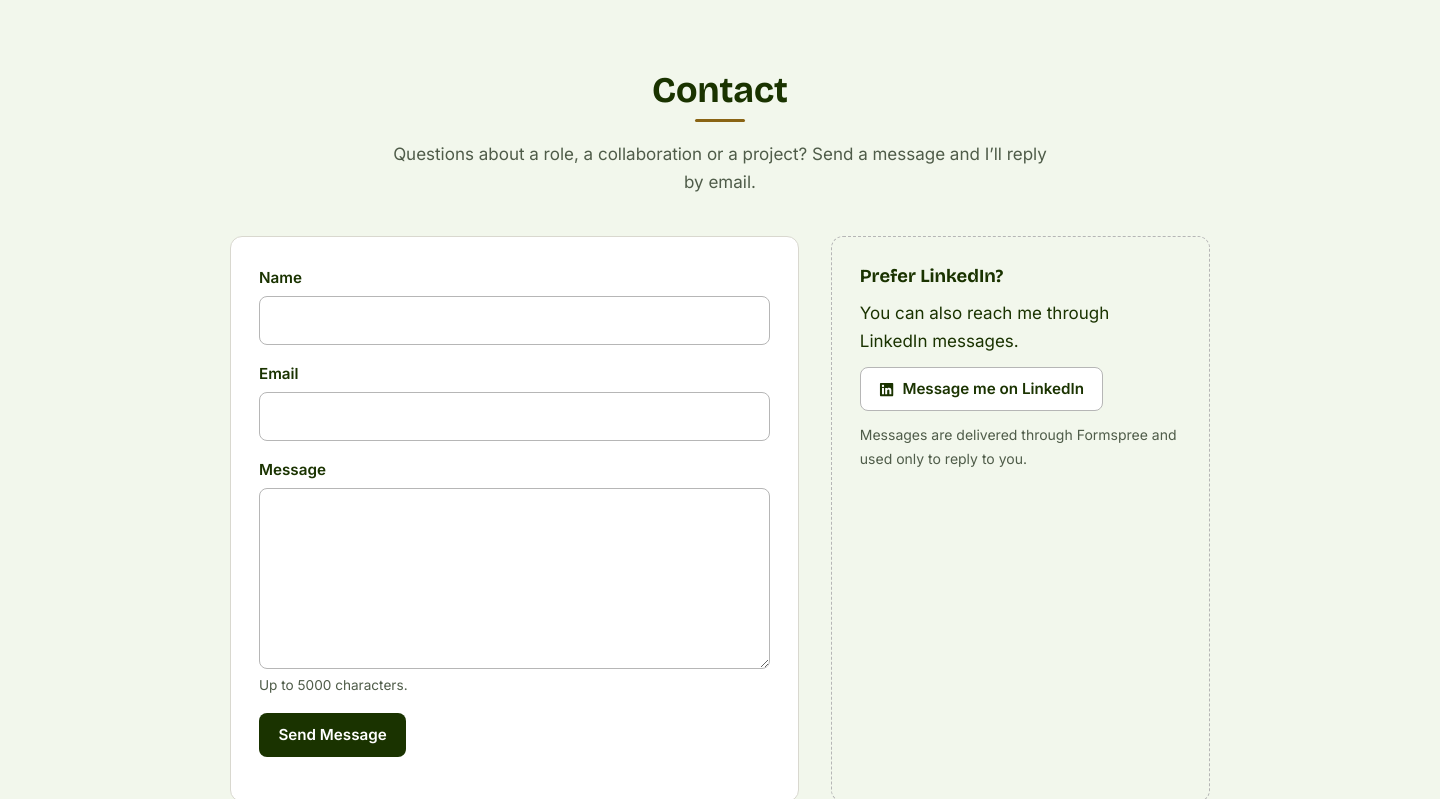
Test: Contact form › shows an error when the service fails
Type "Ada" into the field labelled "Name" at (514,321), box x1=259 y1=296 x2=770 y2=345
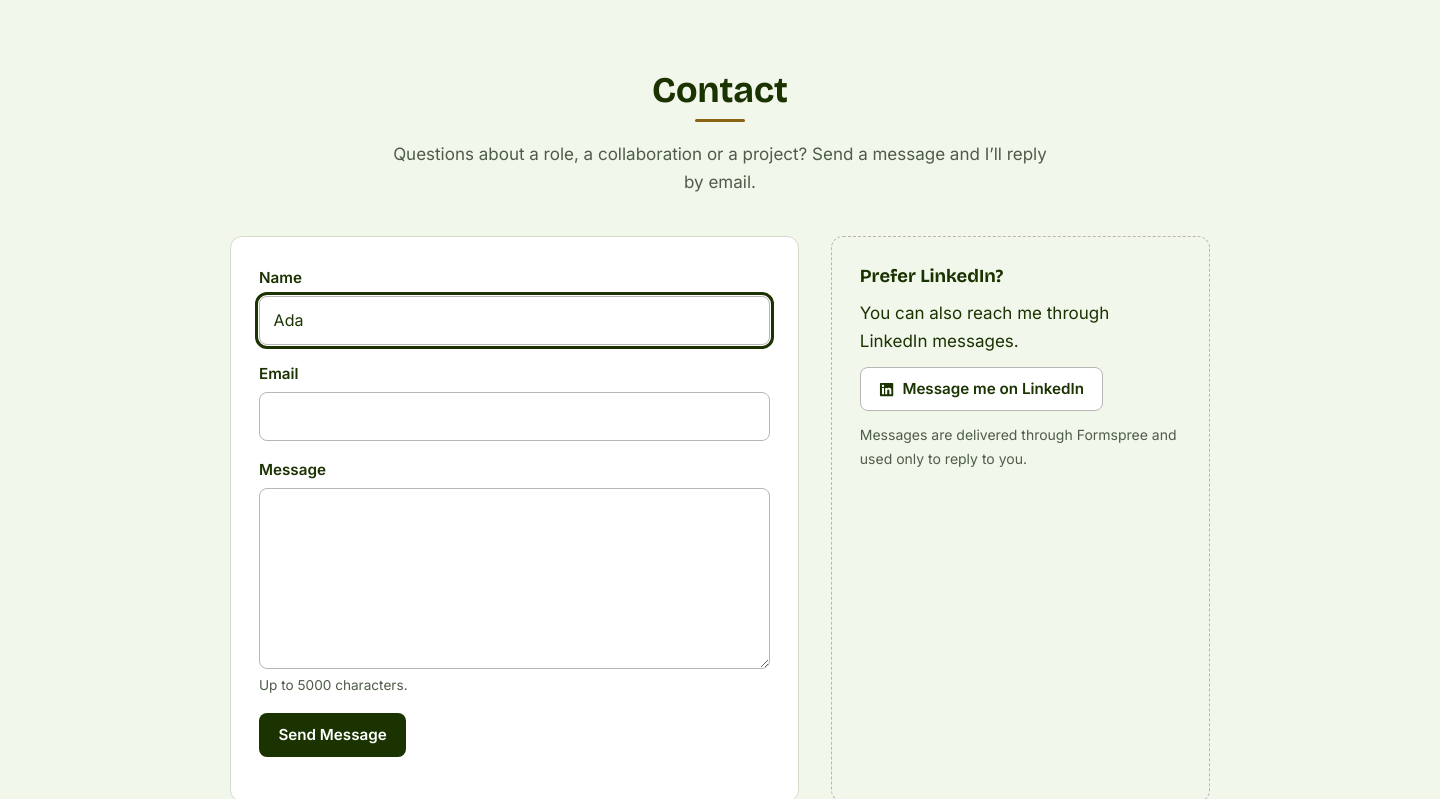
Type "ada@example.com" into the field labelled "Email" at (514,416), box x1=259 y1=392 x2=770 y2=441
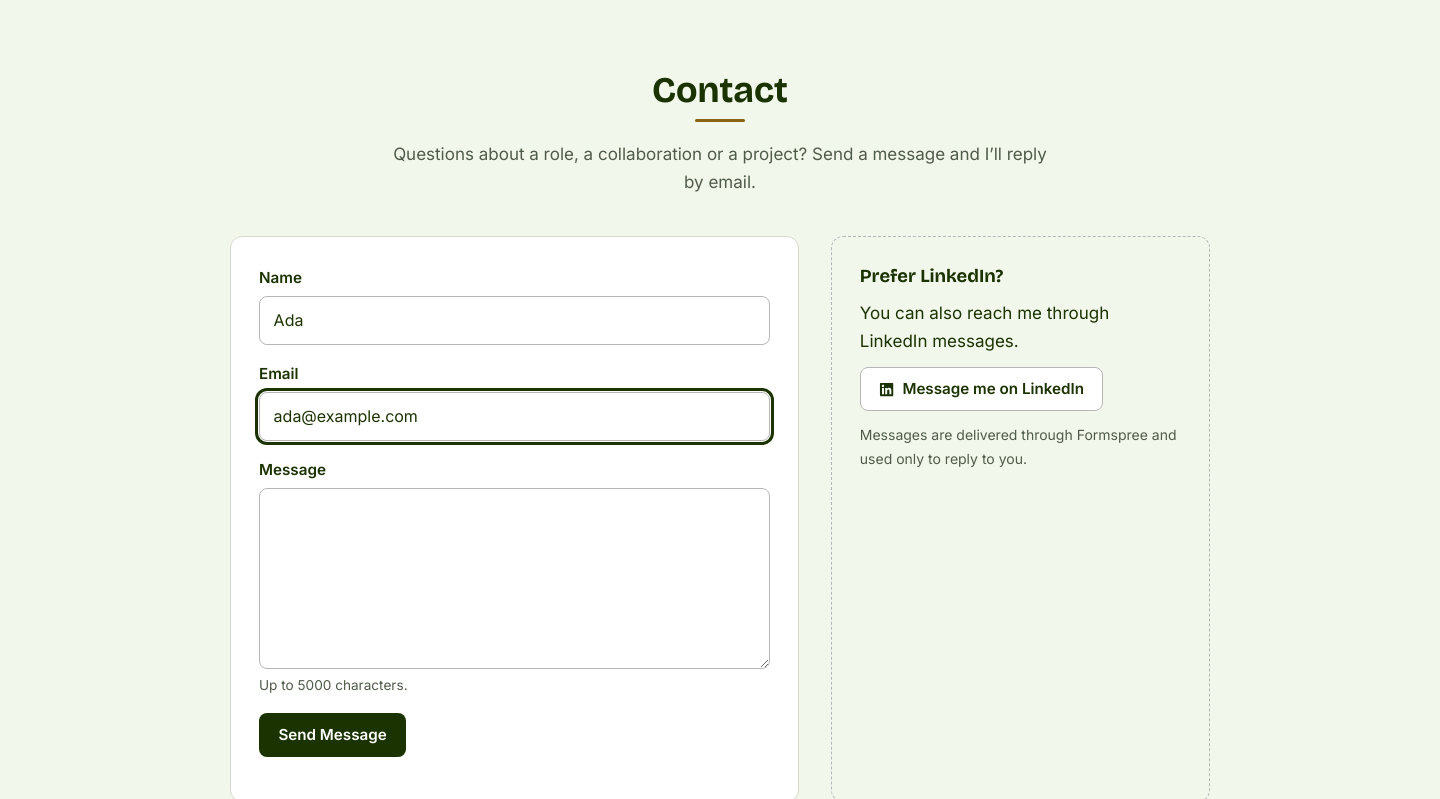
Type "Hello there" into the text box labelled "Message" at (514,578), box x1=259 y1=488 x2=770 y2=669
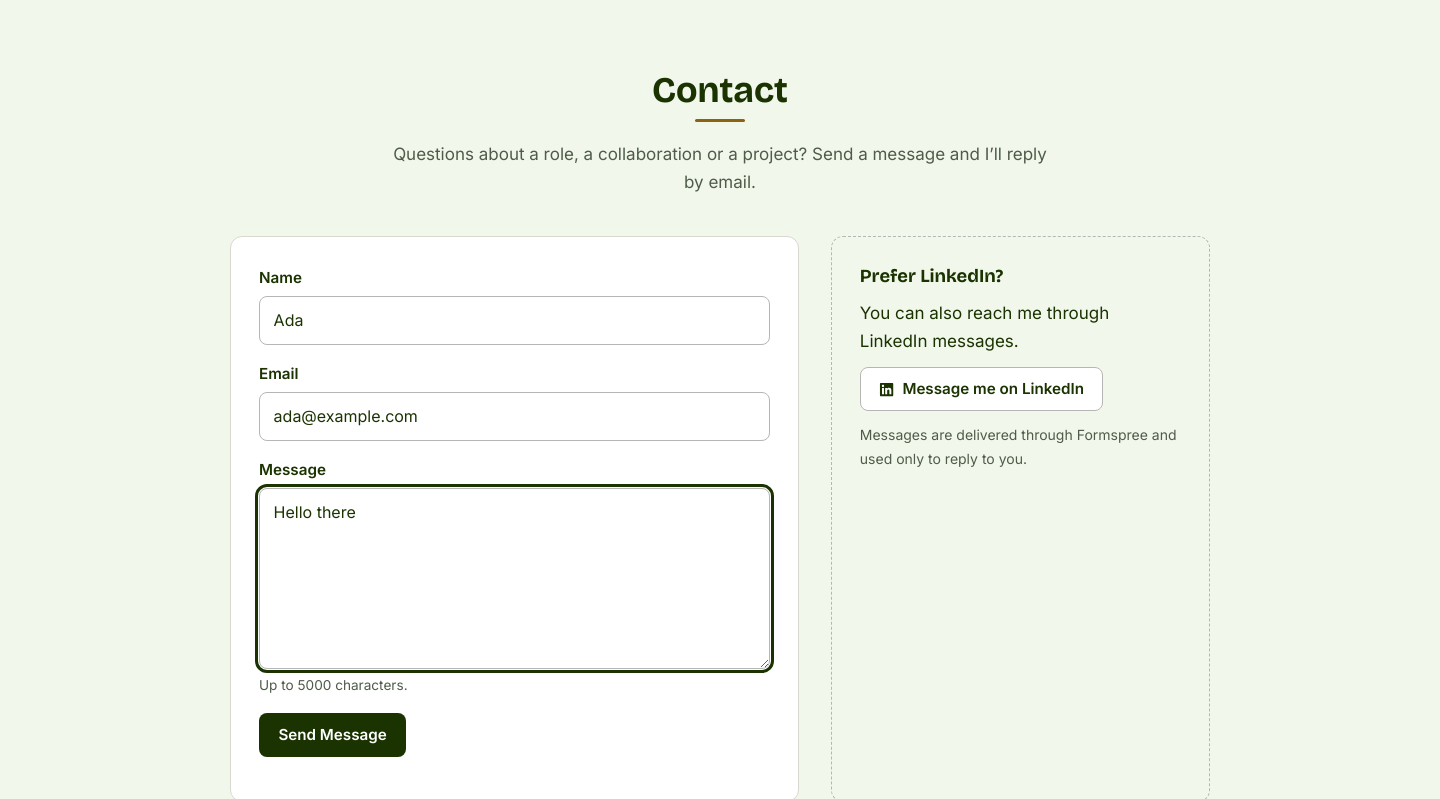
Click the button "Send Message" at (333,735), box x1=259 y1=713 x2=406 y2=757
(page scrolled)
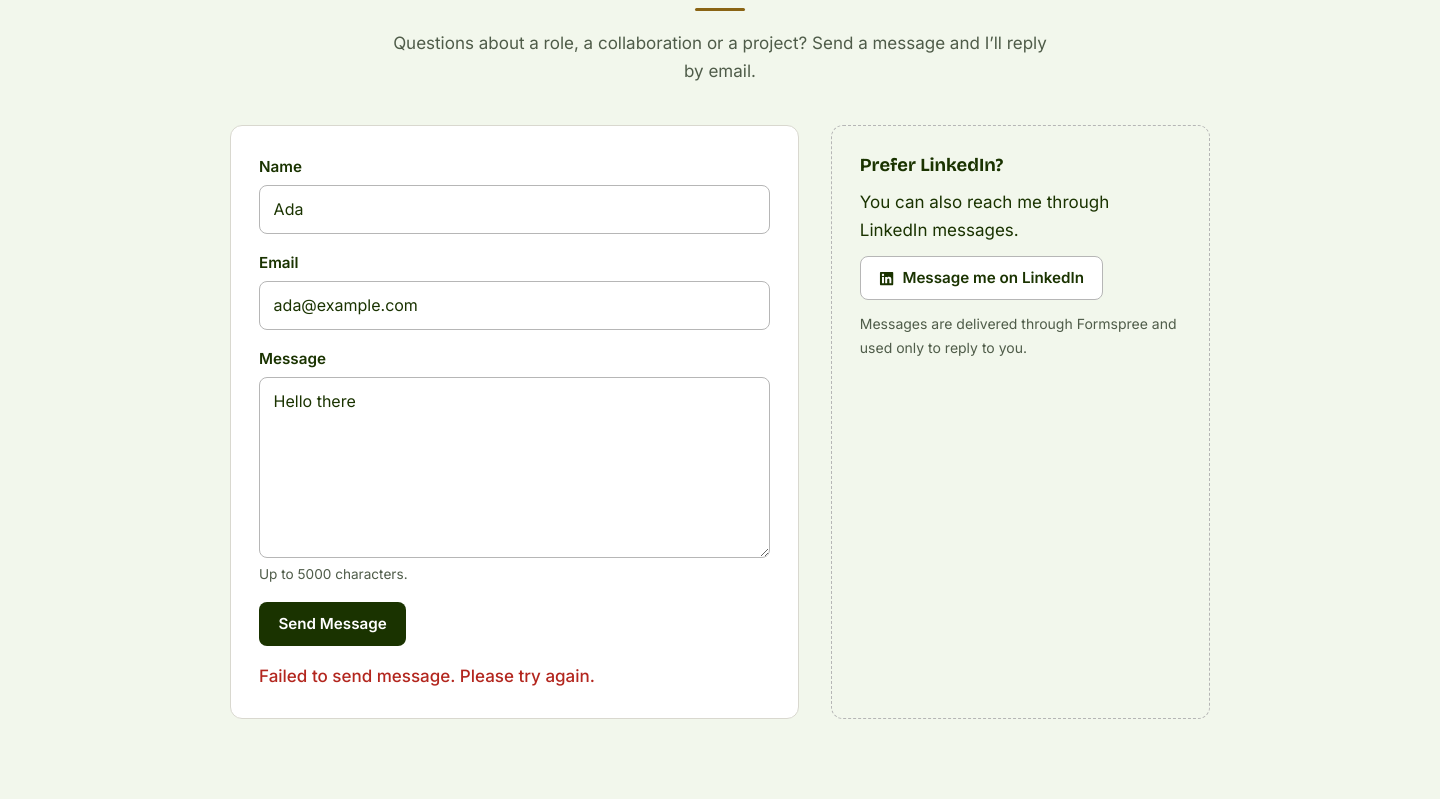
Check: the message shows "Failed to send", box x1=259 y1=666 x2=595 y2=686
